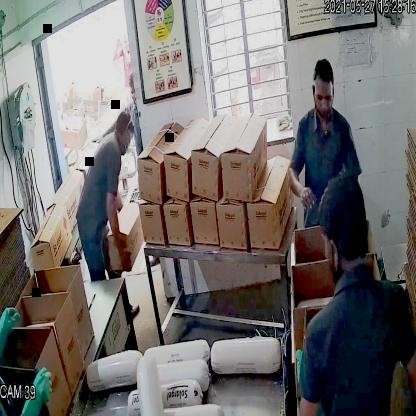no_goggles: (309, 87, 335, 105)
